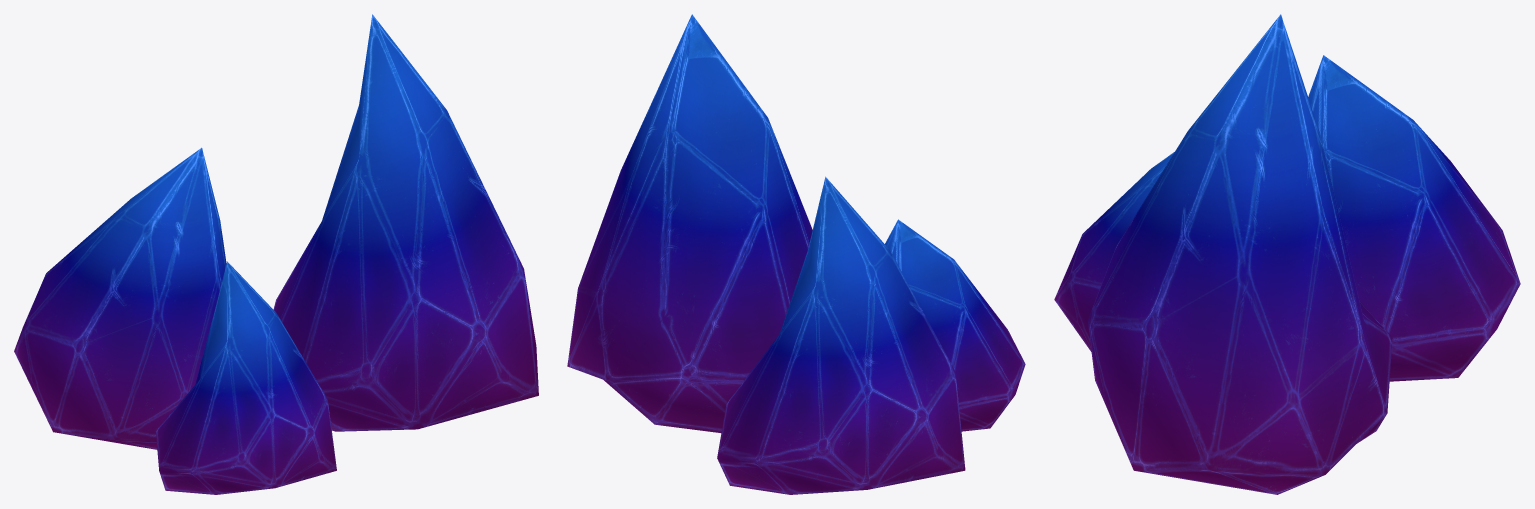
File: cristal.fbx
3 views of the same model, side by side, from view 1: azimuth 30°, elevation 25°; view 2: azimuth 150°, elevation 25°; view 3: azimuth 270°, elevation 25° (orthographic). The views are drawn at different scales.
Visible parts, largest first — view 1: Cristales; view 2: Cristales; view 3: Cristales.
Boxes of the visible parts, left/top/right/bottom form: Cristales: left=14, top=14, right=538, bottom=494; Cristales: left=567, top=14, right=1025, bottom=494; Cristales: left=1054, top=14, right=1520, bottom=494.
Bounding box in the file's own units: 382 × 333 × 322.
1 material, 1 textured.
